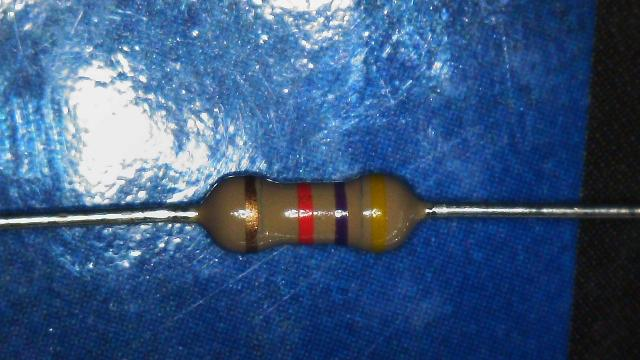gold: (244, 176, 260, 250)
orange: (298, 183, 314, 244)
resistor: (179, 159, 442, 267)
violet: (333, 182, 348, 246)
yellow: (370, 173, 388, 250)
